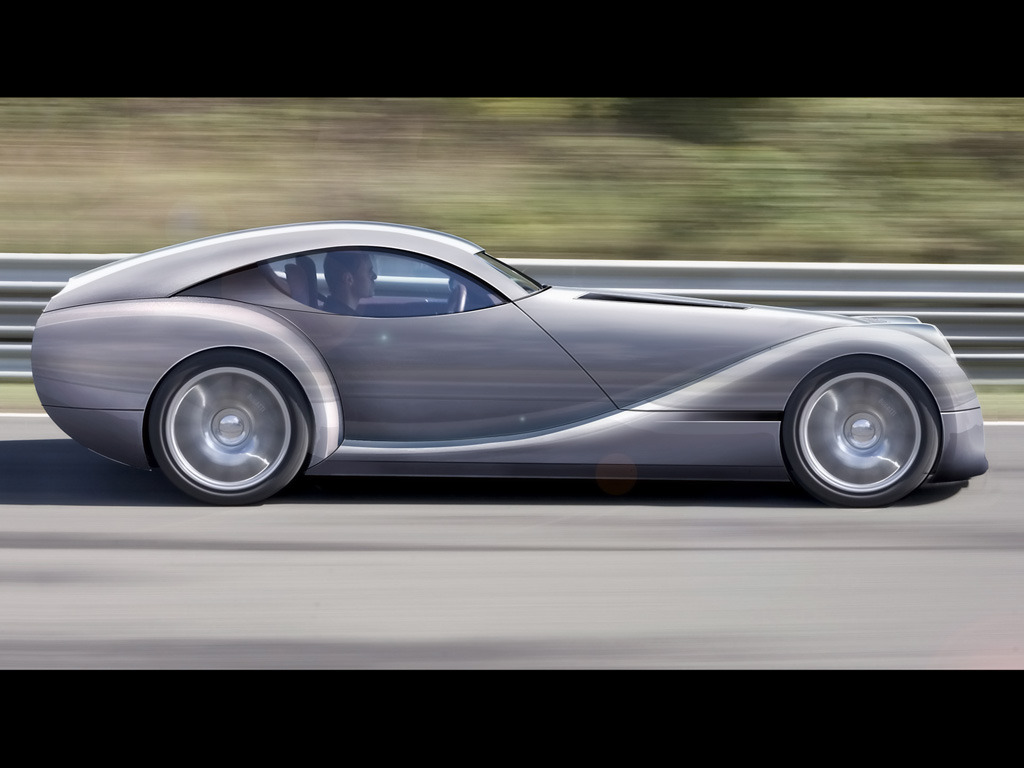mobil: (28, 215, 988, 503)
